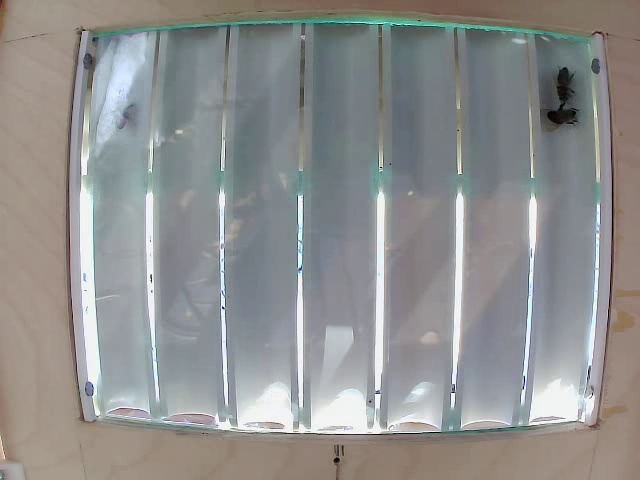bee: (114, 85, 158, 149), (543, 62, 583, 91), (556, 101, 584, 133)
